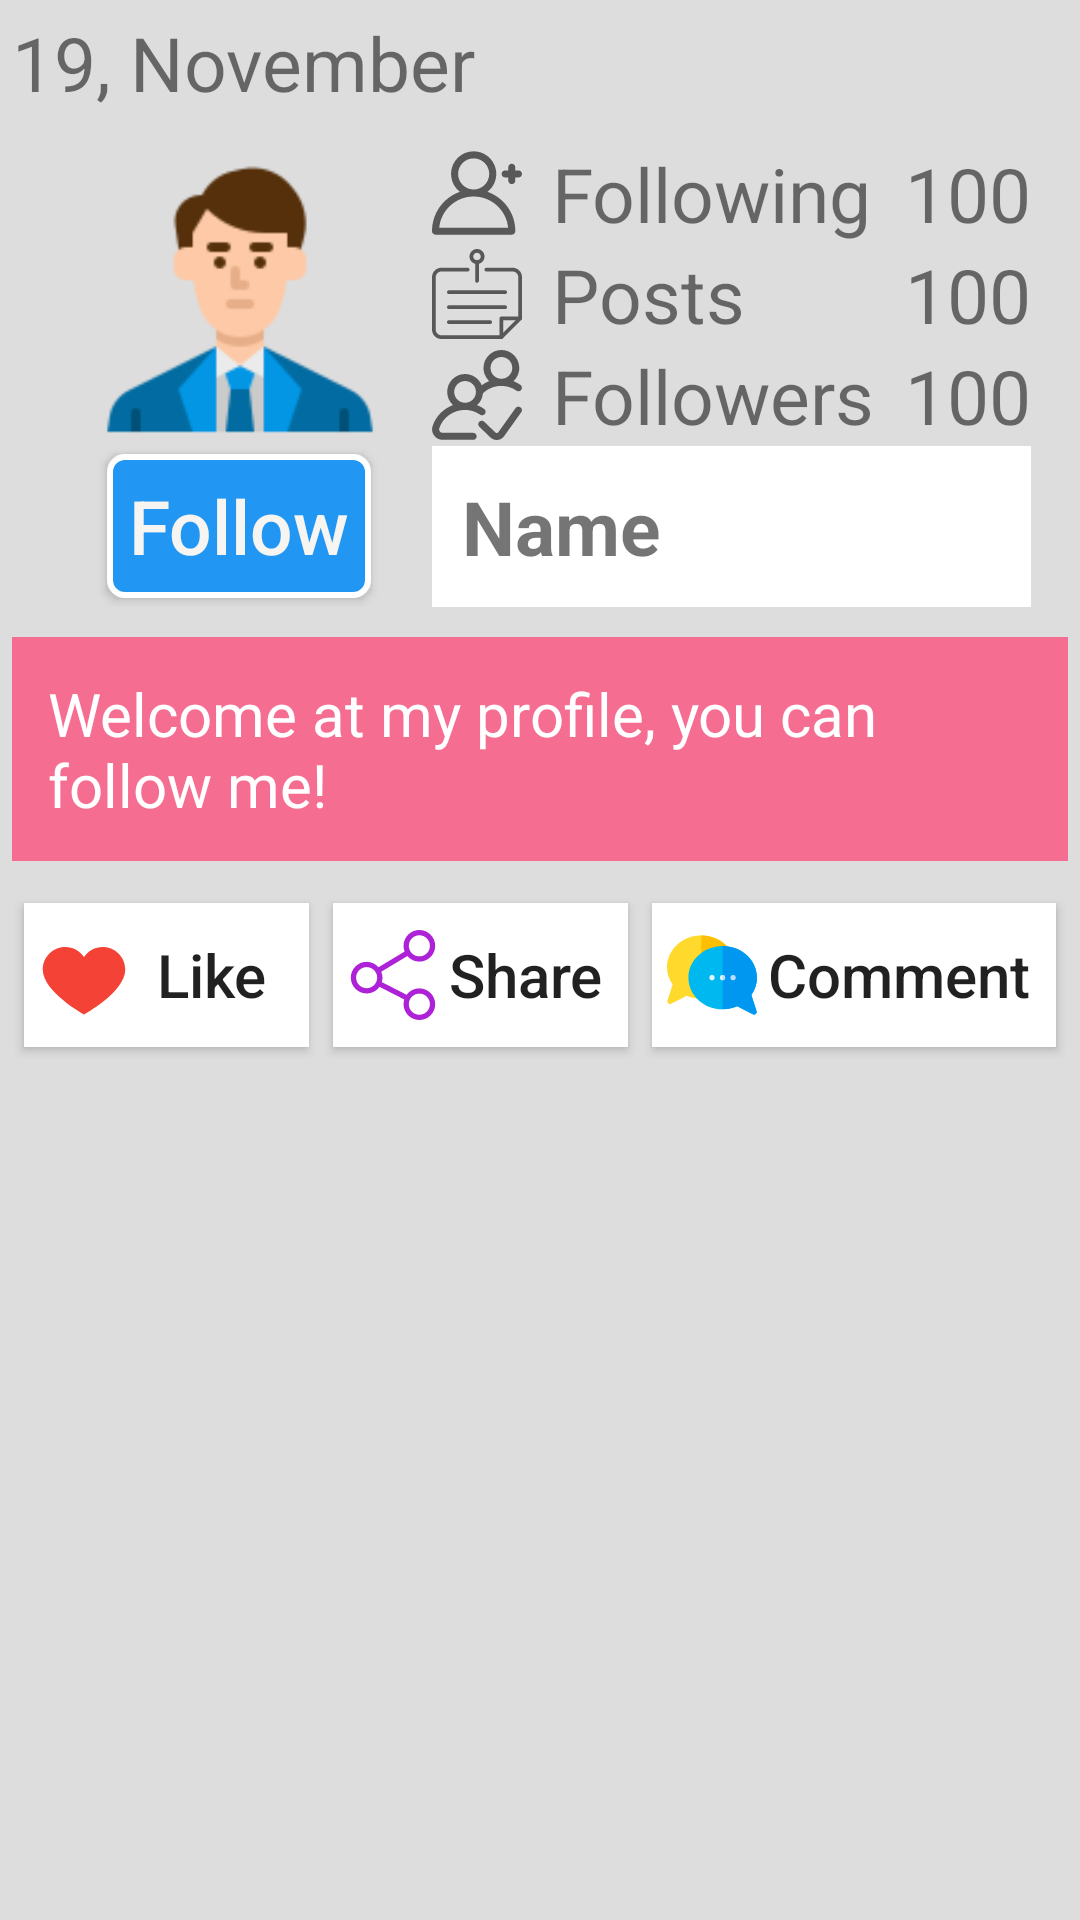

Icon click points for this 1080px×1920px phone screenshot, format (x=x, y=y):
bussiness man: (x=240, y=299)
